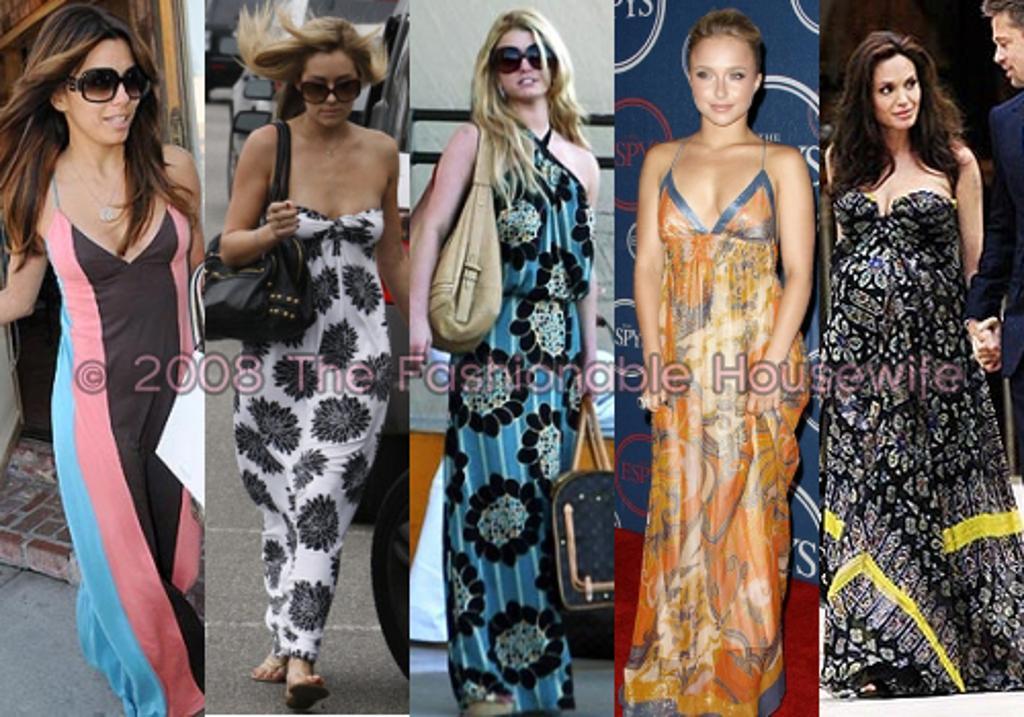face: (65, 43, 140, 143), (691, 41, 754, 124), (302, 53, 359, 126), (495, 28, 551, 96), (870, 61, 919, 127), (993, 19, 1024, 85)
